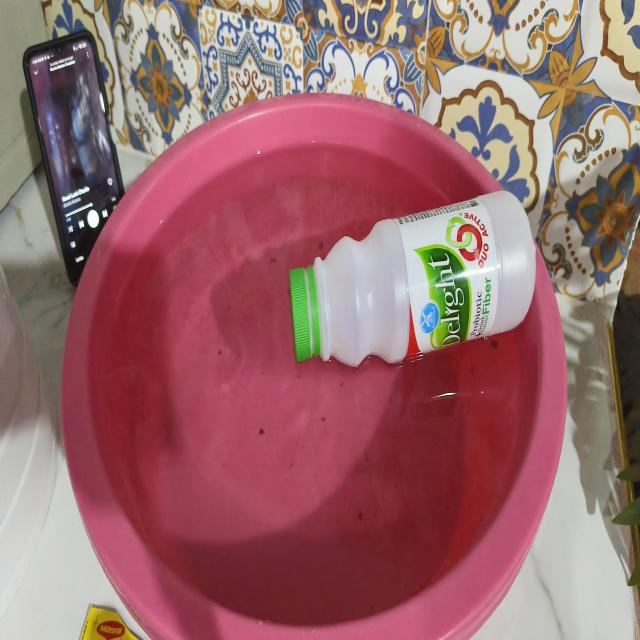Plastic Bottle: (269, 170, 545, 394)
